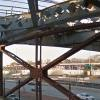Car: (75, 89, 95, 100)
